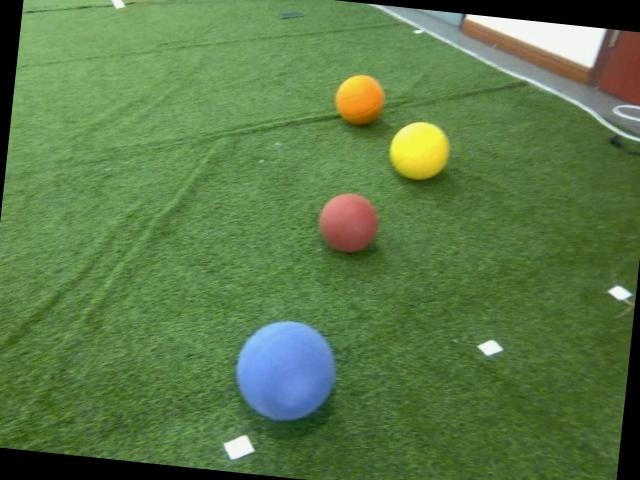blue_ball: (230, 313, 340, 429)
orange_ball: (332, 70, 388, 129)
red_ball: (314, 189, 380, 255)
yellow_ball: (386, 118, 453, 186)
